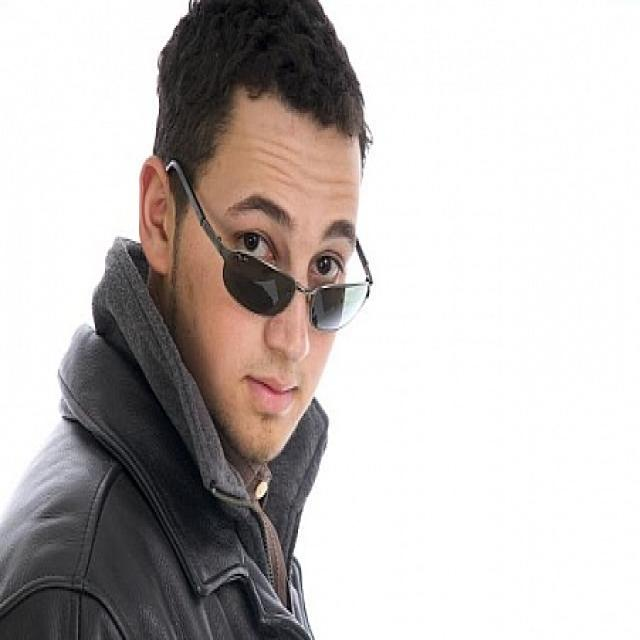Eyes: (232, 209, 347, 280)
